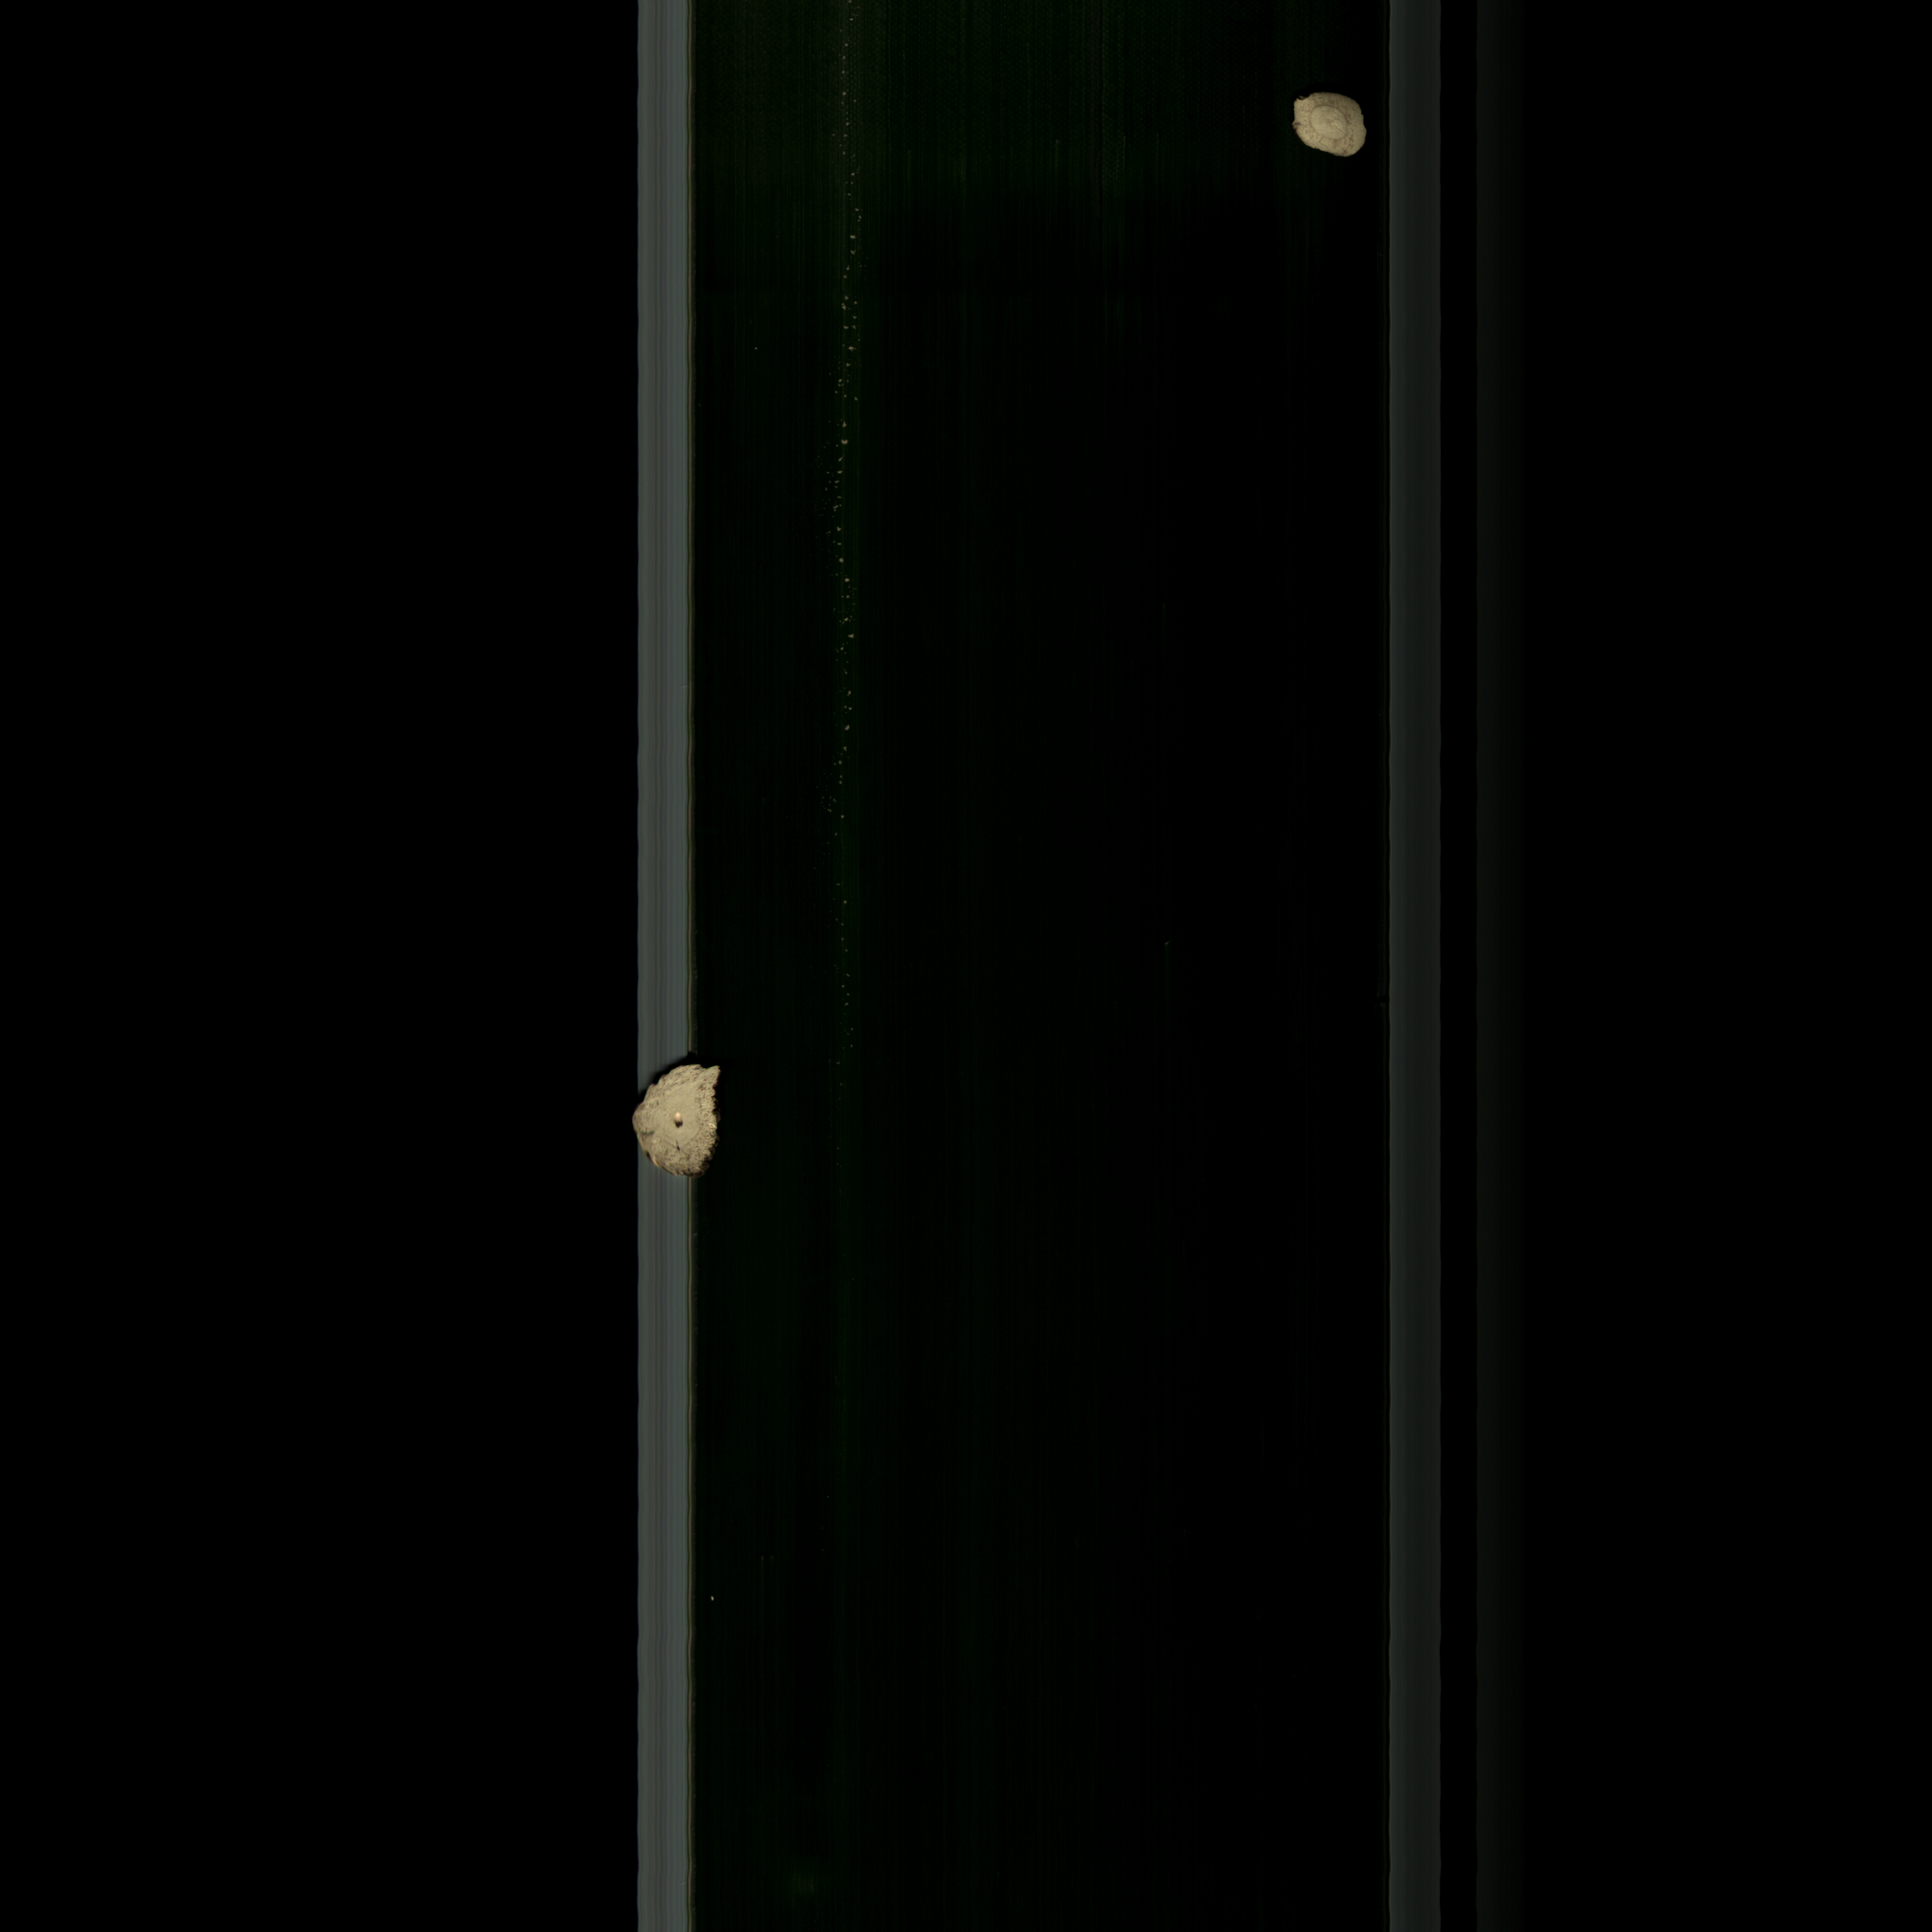debris: (633, 1054, 738, 1198), (1279, 87, 1382, 165)
dreg: (840, 720, 860, 734)
